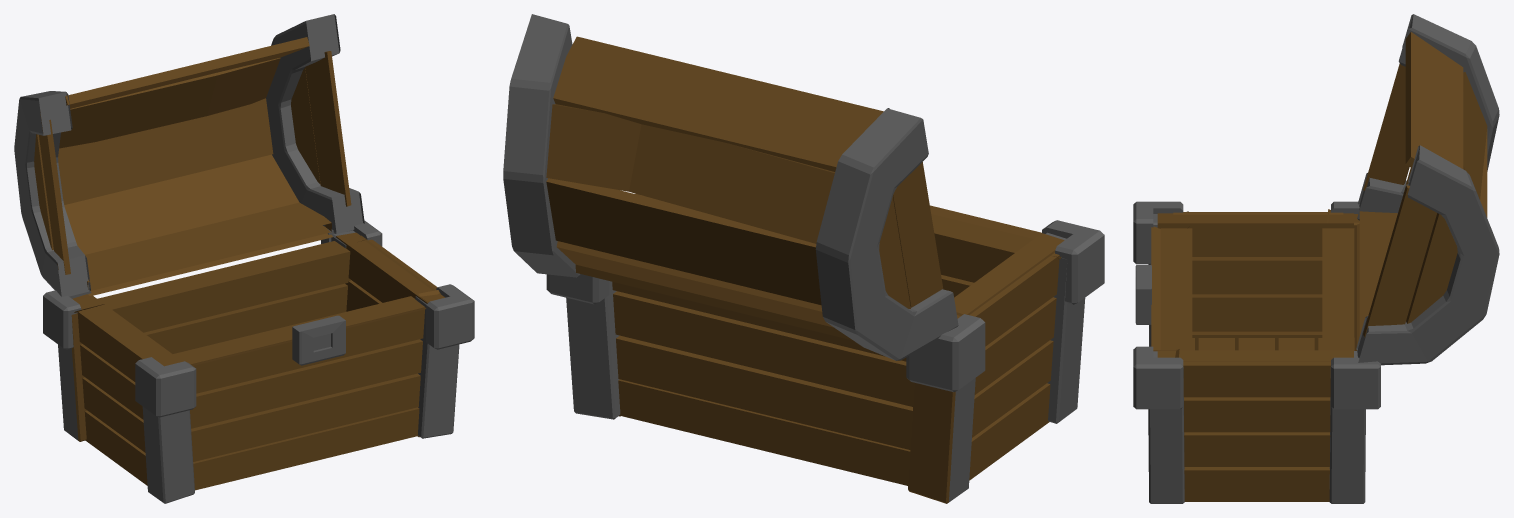
Rendered from SM_SM_chest_02.fbx.
3 renders of one model, left to right at view 1: azimuth 30°, elevation 25°; view 2: azimuth 150°, elevation 25°; view 3: azimuth 270°, elevation 25°, orthographic. The views are drawn at different scales.
Visible parts, largest first — view 1: SM_chest_02; view 2: SM_chest_02; view 3: SM_chest_02.
Boxes of the visible parts, x1,y1,x2,y2 form: SM_chest_02: (14,14,474,503); SM_chest_02: (503,14,1104,503); SM_chest_02: (1133,14,1499,503).
Size of the model in its own units: 79.48 by 77.78 by 73.98.
